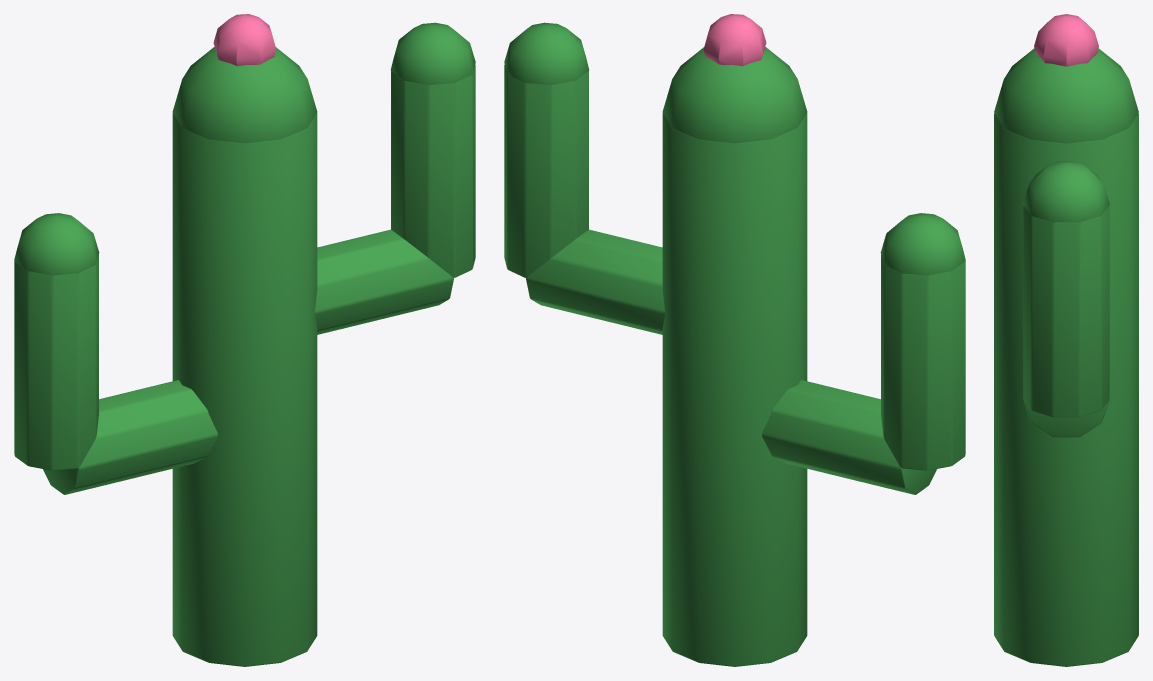
File: Cactus.fbx
3 renders of one model, left to right at view 1: azimuth 30°, elevation 25°; view 2: azimuth 150°, elevation 25°; view 3: azimuth 270°, elevation 25°, orthographic.
Parts seen in each view (by area): view 1: Cactus; view 2: Cactus; view 3: Cactus.
Part boxes in pixels (x1=…): Cactus: x1=14, y1=14, x2=475, y2=666; Cactus: x1=504, y1=14, x2=965, y2=666; Cactus: x1=994, y1=14, x2=1138, y2=666.
Bounding box in the file's own units: 714 × 945 × 200.
